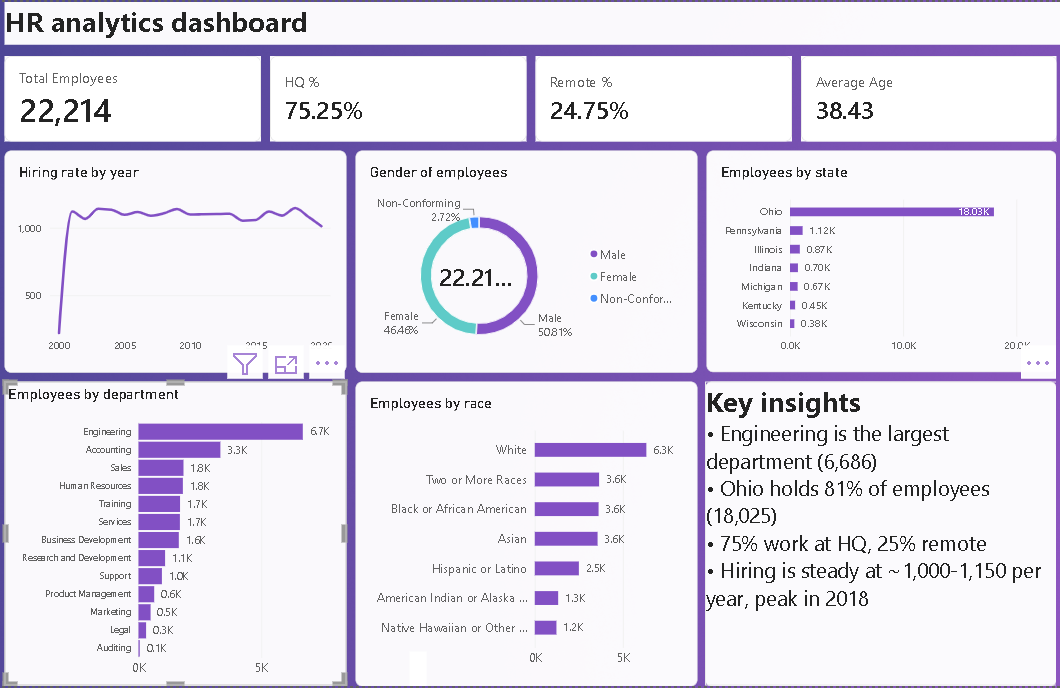

The page's visual inventory and layout, read from the dashboard file:
{"tool":"powerbi","page":{"name":"Page 1","canvas":[1280,800],"ordinal":0},"visuals":[{"type":"cardVisual","fields":{"Data":["hr_analytics_anonymized.Total Employees"]},"box":[20,64,300,100],"z":0},{"type":"cardVisual","fields":{"Data":["hr_analytics_anonymized.Remote %"]},"box":[640,64,300,100],"z":1},{"type":"cardVisual","fields":{"Data":["hr_analytics_anonymized.HQ %"]},"box":[330,64,300,100],"z":2},{"type":"cardVisual","fields":{"Data":["hr_analytics_anonymized.Average Age"]},"box":[950,64,300,100],"z":3},{"type":"lineChart","title":"Hiring rate by year","fields":{"Category":["hr_analytics_anonymized.hire_date.Variation.Date Hierarchy.Year"],"Y":["CountNonNull(hr_analytics_anonymized.id)"]},"box":[20,174,400,260],"z":4},{"type":"donutChart","title":"Gender of employees","fields":{"Category":["hr_analytics_anonymized.gender"],"Y":["CountNonNull(hr_analytics_anonymized.id)"]},"box":[430,174,400,260],"z":5},{"type":"clusteredBarChart","title":"Employees by state","fields":{"Category":["hr_analytics_anonymized.location_state"],"Y":["CountNonNull(hr_analytics_anonymized.id)"]},"box":[840.6,173.4,409.4,259.4],"z":6},{"type":"clusteredBarChart","title":"Employees by department","fields":{"Category":["hr_analytics_anonymized.department"],"Y":["CountNonNull(hr_analytics_anonymized.id)"]},"box":[19.7,443.7,400,356.3],"z":7},{"type":"clusteredBarChart","title":"Employees by race","fields":{"Category":["hr_analytics_anonymized.race"],"Y":["CountNonNull(hr_analytics_anonymized.id)"]},"box":[429.6,443.7,400,356.3],"z":8},{"type":"textbox","box":[492.5,760,20,320],"z":9},{"type":"textbox","box":[20,0,1240,50],"z":11},{"type":"textbox","box":[839.4,443.7,411.3,356.3],"z":12}]}

Visuals, with their boxes in screenshot pixels (x1, y1, x2, y2):
cardVisual - hr_analytics_anonymized.Total Employees: [6, 54, 260, 139]
cardVisual - hr_analytics_anonymized.Remote %: [531, 54, 785, 139]
cardVisual - hr_analytics_anonymized.HQ %: [268, 54, 522, 139]
cardVisual - hr_analytics_anonymized.Average Age: [793, 54, 1047, 139]
"Hiring rate by year" lineChart: [6, 147, 345, 367]
"Gender of employees" donutChart: [353, 147, 692, 367]
"Employees by state" clusteredBarChart: [701, 147, 1047, 366]
"Employees by department" clusteredBarChart: [6, 376, 344, 677]
"Employees by race" clusteredBarChart: [353, 376, 691, 677]
textbox: [406, 643, 423, 687]
textbox: [6, 0, 1056, 42]
textbox: [700, 376, 1048, 677]
